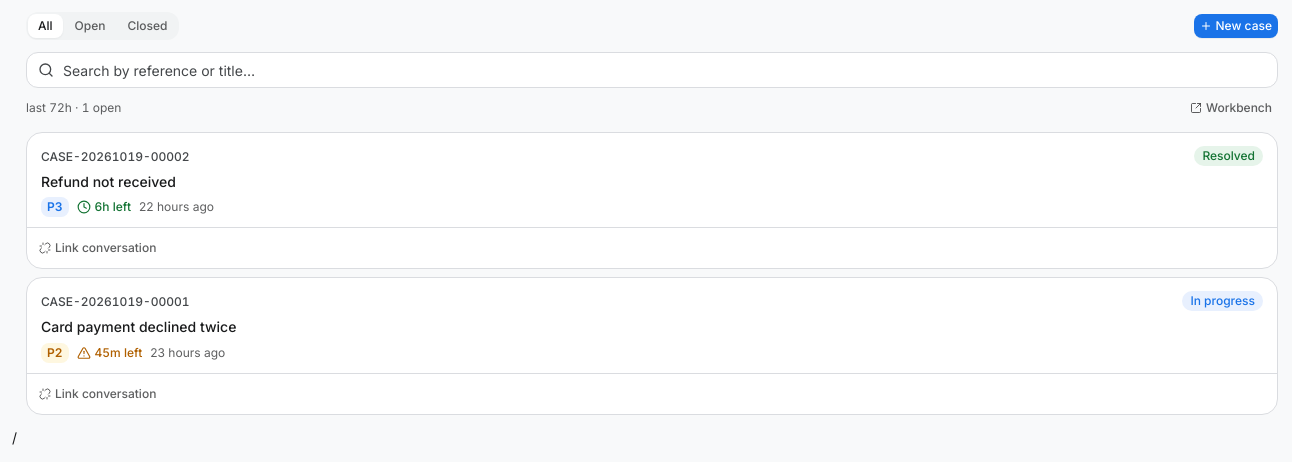
Test case: conversation Cases tab › lists the customer's cases and filters open / closed
expect the text "Card payment declined twice" is shown: met, box [41,318,236,335]
expect the text "Refund not received" is shown: met, box [41,173,176,190]
Click the button "Open" at (90, 26), box [65,14,116,38]
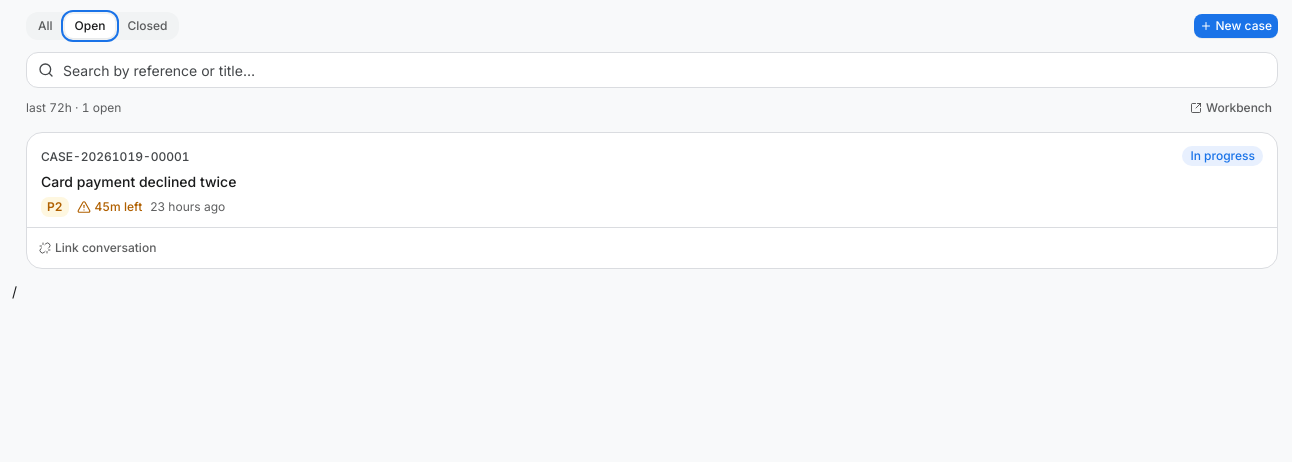
expect the button "Refund not received" is gone: met
Click the button "Closed" at (148, 26), box [118,14,178,38]
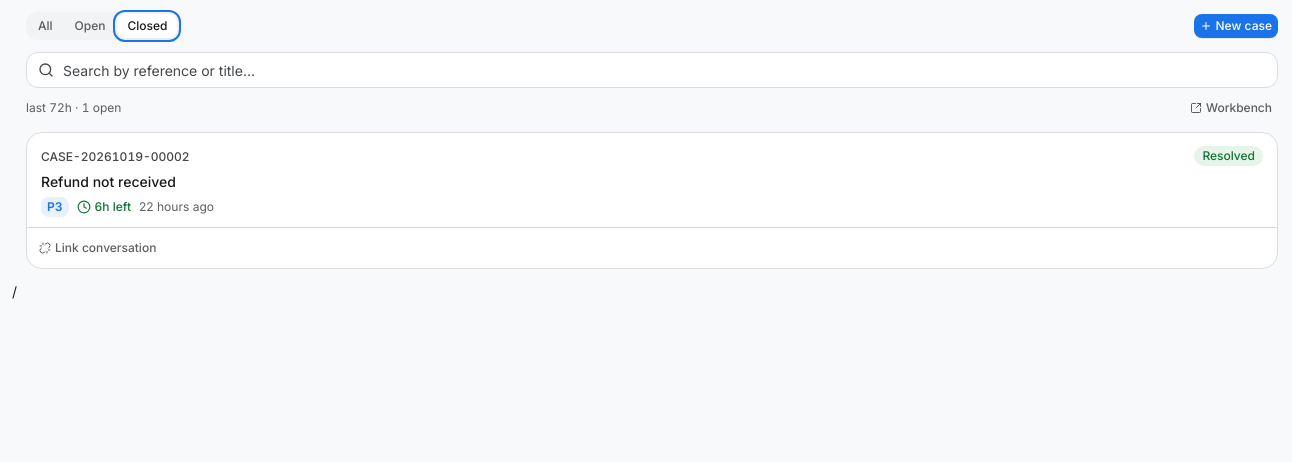
expect the text "Refund not received" is shown: met, box [41,173,176,190]
expect the button "Card payment declined twice" is gone: met
